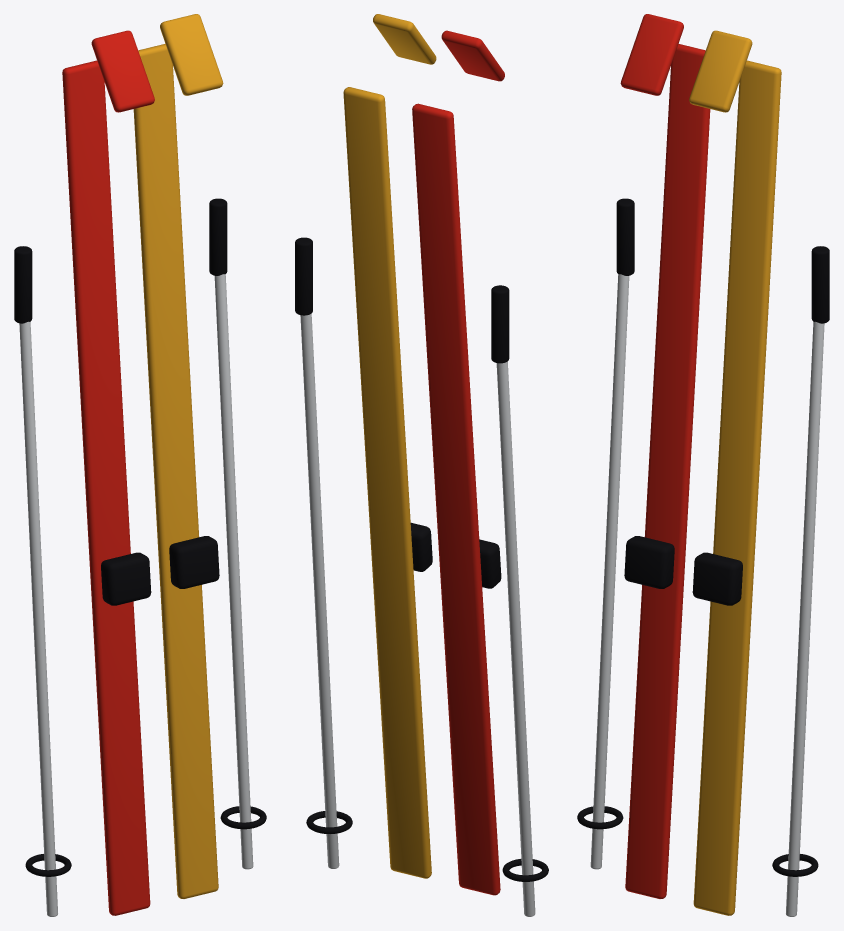
The model's file is skis.glb.
The picture shows the model from 3 angles, left to right: view 1: azimuth 30°, elevation 25°; view 2: azimuth 150°, elevation 25°; view 3: azimuth 330°, elevation 25°; orthographic projection.
Parts seen in each view (by area): view 1: skis; view 2: skis; view 3: skis.
Boxes of the visible parts, x1,y1,x2,y2 form: skis: (14, 14, 266, 916); skis: (295, 14, 548, 916); skis: (577, 14, 829, 916).
Bounding box in the file's own units: 0.482 × 1.69 × 0.202.
